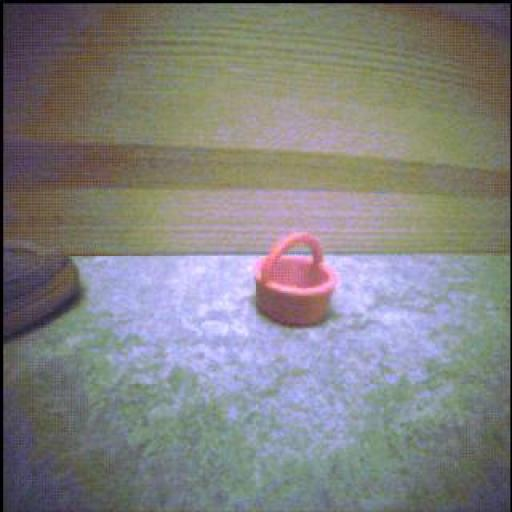Bucket: (256, 235, 339, 328)
